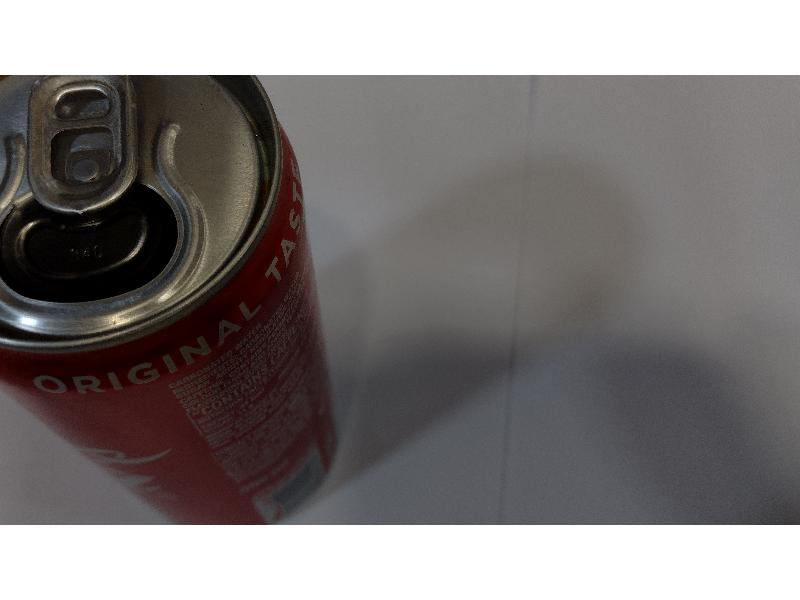can: (1, 75, 346, 520)
